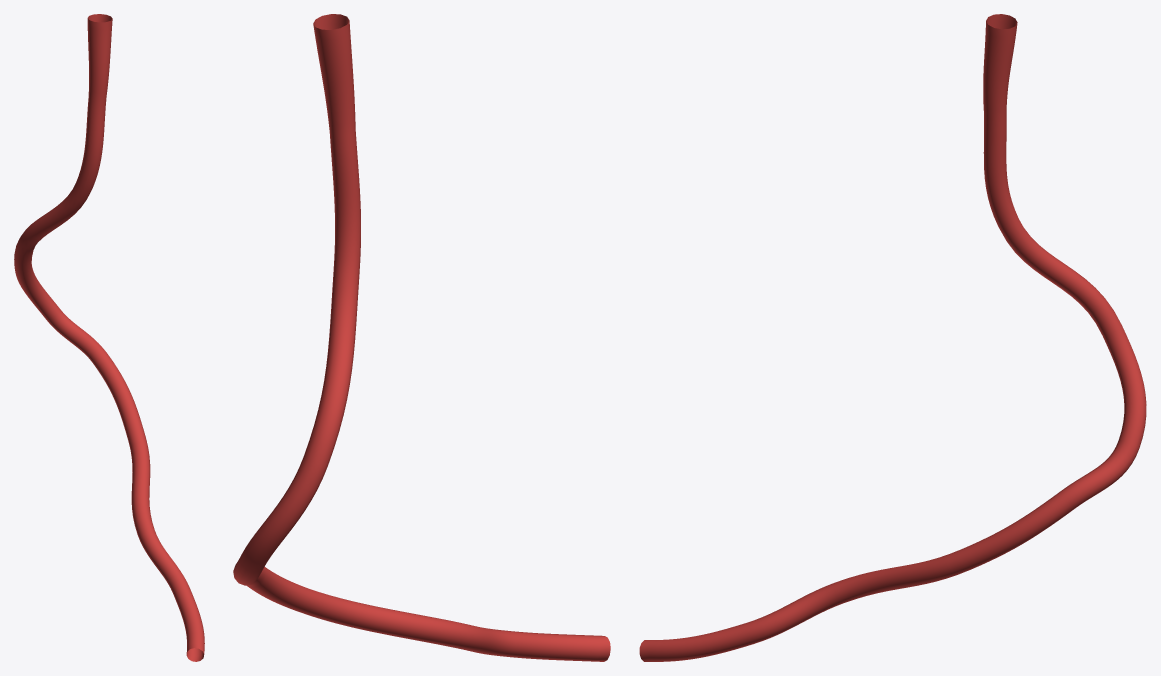
3 renders of one model, left to right at view 1: azimuth 30°, elevation 25°; view 2: azimuth 150°, elevation 25°; view 3: azimuth 270°, elevation 25°, orthographic. The views are drawn at different scales.
Visible parts, largest first — view 1: 左侧面动脉; view 2: 左侧面动脉; view 3: 左侧面动脉.
Part boxes in pixels (left/top/right/bottom): 左侧面动脉: left=14, top=14, right=204, bottom=661; 左侧面动脉: left=233, top=14, right=610, bottom=661; 左侧面动脉: left=639, top=14, right=1146, bottom=661.
Bounding box in the file's own units: 0.0171 × 0.0965 × 0.0663.
